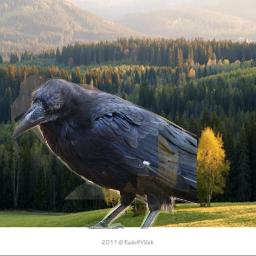Crow: (11, 75, 197, 229)
